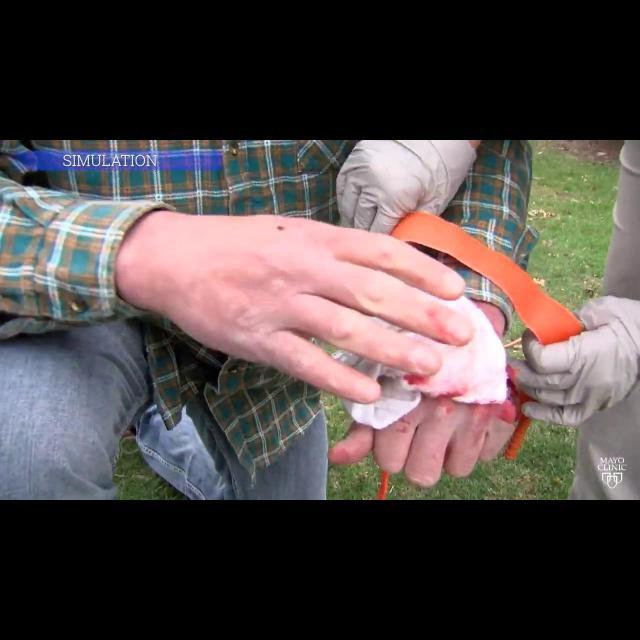blood: (472, 364, 528, 424), (436, 388, 462, 414), (404, 374, 429, 385)
